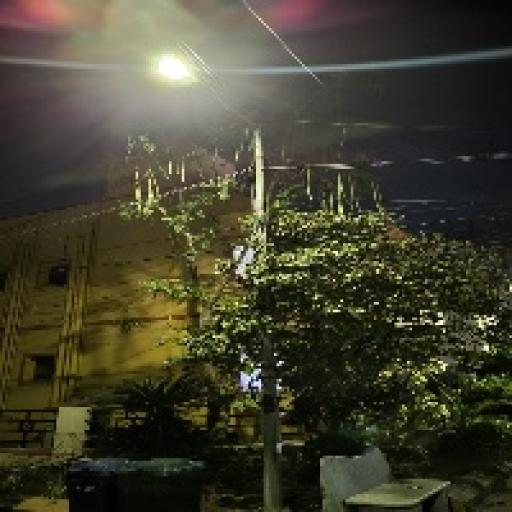Working: (148, 50, 204, 90)
